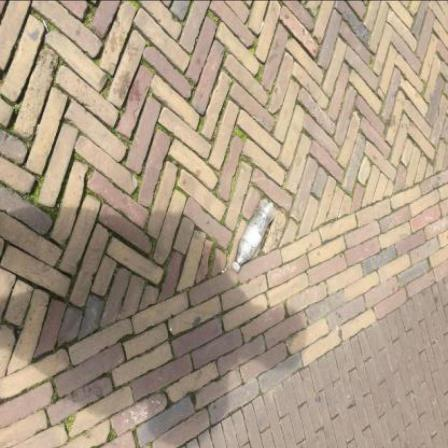Bottle: (232, 200, 276, 273)
Bottle cap: (233, 263, 241, 273)
Unlabeled litter: (43, 19, 49, 33)
